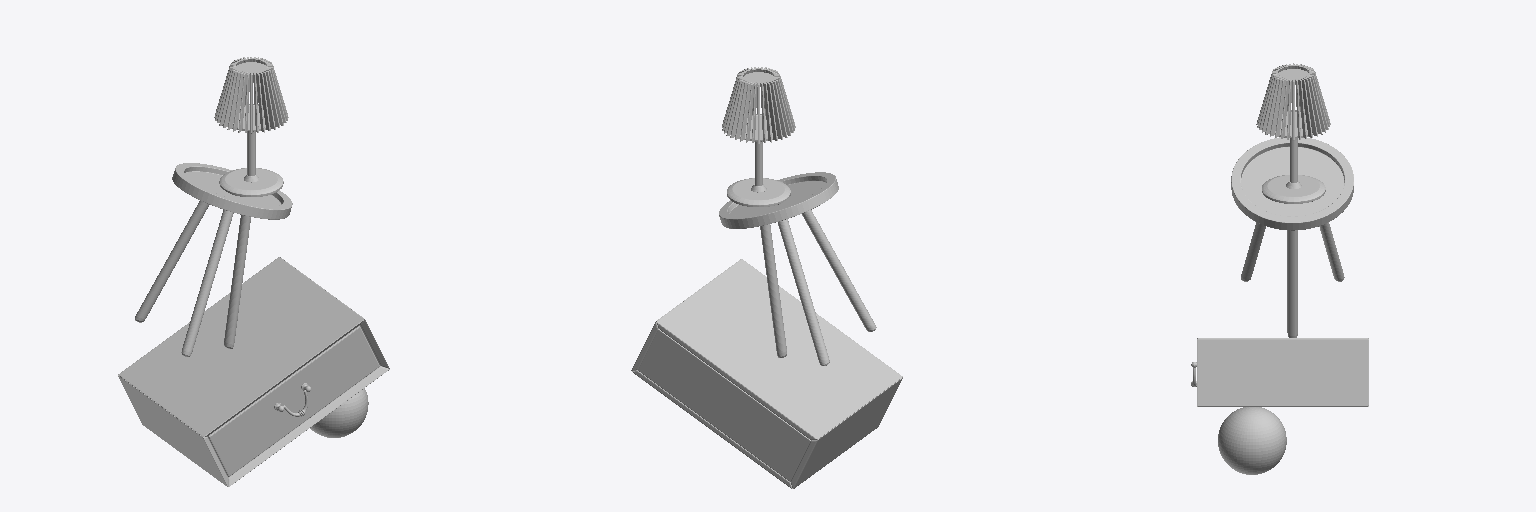
The model's file is Lamp.obj.
3 renders of one model, left to right at view 1: azimuth 30°, elevation 25°; view 2: azimuth 150°, elevation 25°; view 3: azimuth 270°, elevation 25°, orthographic.
Visible parts, largest first — view 1: Object, Object001, Plane001, 978_Coffee_table, Object035, Cylinder003, Sphere001, Cylinder002, Cylinder001, Cylinder004, Object033, Object037; view 2: Object, Object002, Plane001, 978_Coffee_table, Object037, Cylinder002, Cylinder003, Cylinder001, Cylinder004, Object031; view 3: Plane001, 978_Coffee_table, Sphere001, Object033, Object031, Cylinder004, Cylinder001, Cylinder003, Cylinder002.
Part boxes in pixels (x1,y1,x2,y2): Object: (118,257,389,486); Object001: (207,326,379,476); Plane001: (118,257,389,486); 978_Coffee_table: (172,163,292,219); Object035: (223,70,270,133); Cylinder003: (181,210,233,356); Sphere001: (310,388,368,437); Cylinder002: (135,201,209,322); Cylinder001: (224,215,250,348); Cylinder004: (219,168,283,196); Object033: (261,61,288,129); Object037: (214,59,241,125); Object: (632,259,902,488); Object002: (638,329,811,481); Plane001: (631,259,902,488); 978_Coffee_table: (719,172,838,228); Object037: (746,79,790,143); Cylinder002: (778,219,829,365); Cylinder003: (802,210,876,331); Cylinder001: (760,224,786,357); Cylinder004: (727,178,790,206); Object031: (722,73,751,141); Plane001: (1197,339,1368,406); 978_Coffee_table: (1231,137,1353,230); Sphere001: (1218,407,1286,474); Object033: (1257,73,1294,139); Object031: (1295,72,1330,139); Cylinder004: (1262,175,1325,203); Cylinder001: (1287,230,1297,337); Cylinder003: (1241,222,1265,281); Cylinder002: (1319,222,1344,281).
Bounding box in the file's own units: 63.04 × 118 × 51.65.